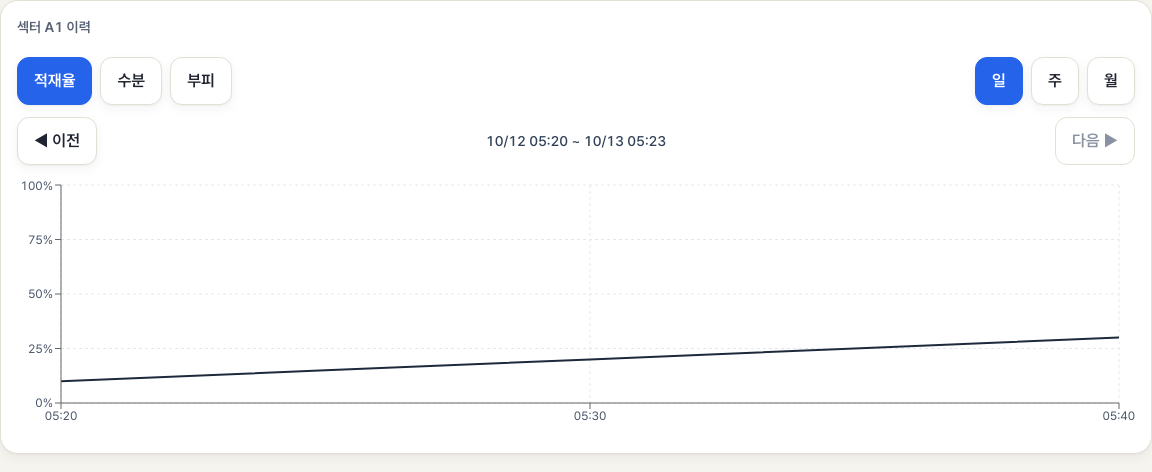
Test case: HistoryPanel: 구간 › 받아 둔 과거 구간은 다시 돌아와도 재요청하지 않지만, 최근 구간은 항상 다시 요청한다
This screenshot has width=1152, height=472.
Expected: the picture is shown, [17, 177, 1135, 437]
Click the button with aria-label "이전 구간" at (57, 141), box [17, 117, 97, 165]
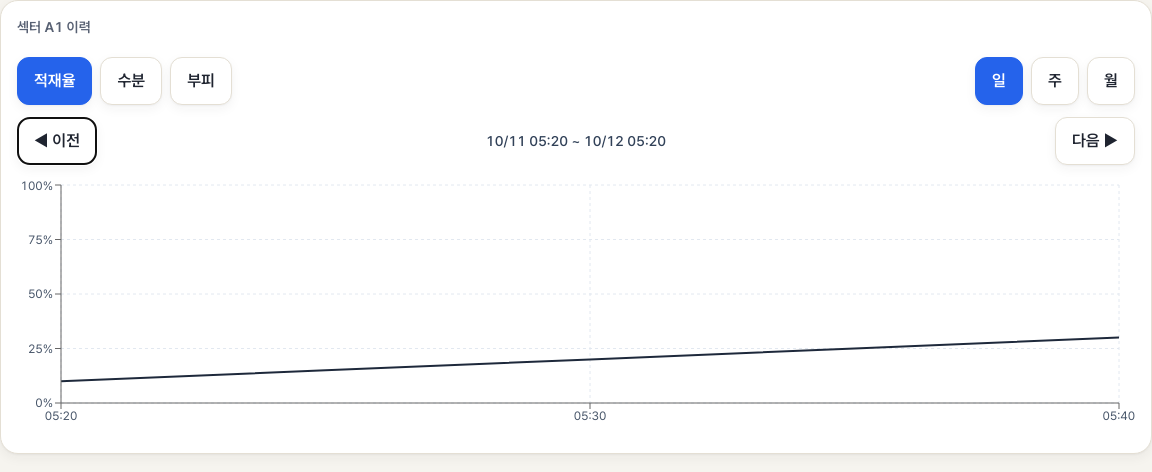
Click the button with aria-label "이전 구간" at (57, 141), box [17, 117, 97, 165]
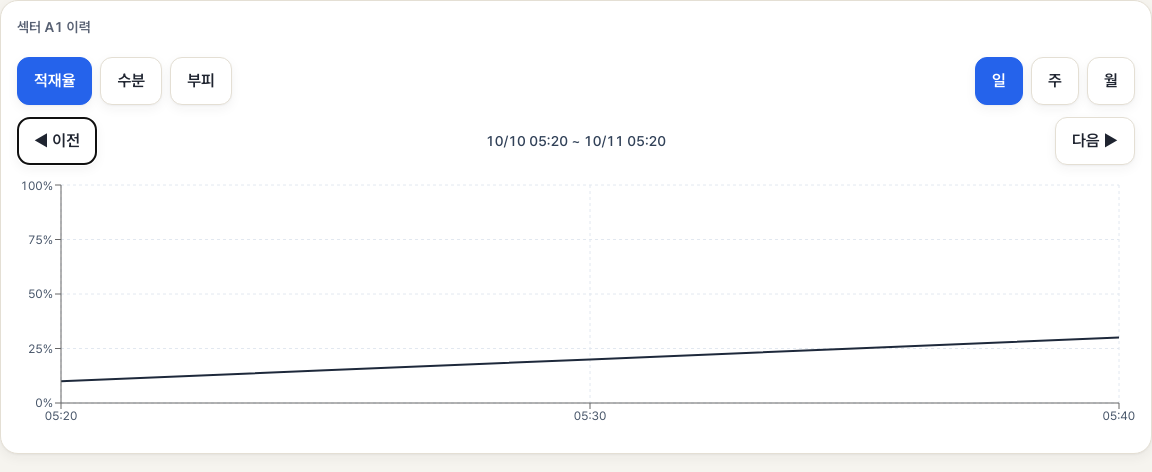
Click the button with aria-label "다음 구간" at (1095, 141), box [1055, 117, 1135, 165]
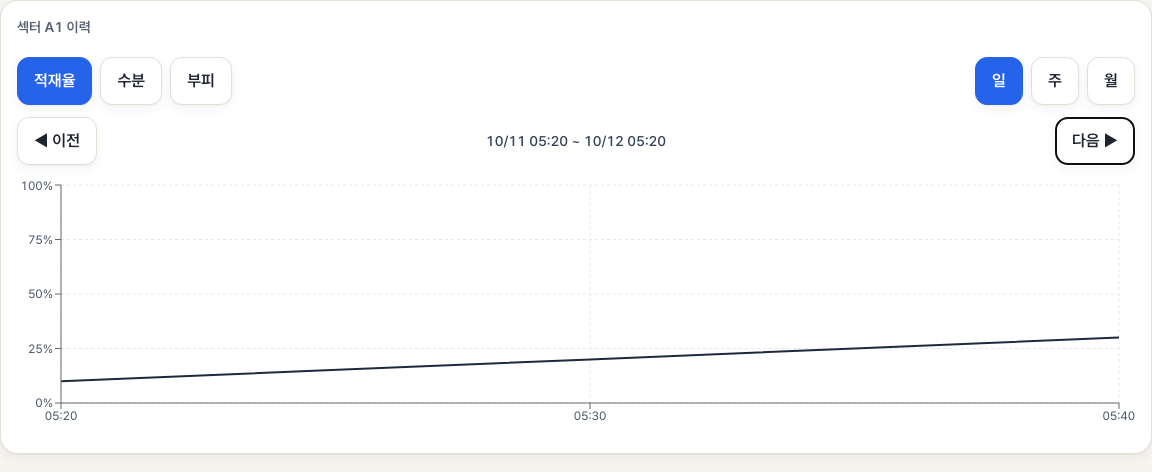
Expected: the picture is shown, [17, 177, 1135, 437]
Click the button with aria-label "다음 구간" at (1095, 141), box [1055, 117, 1135, 165]
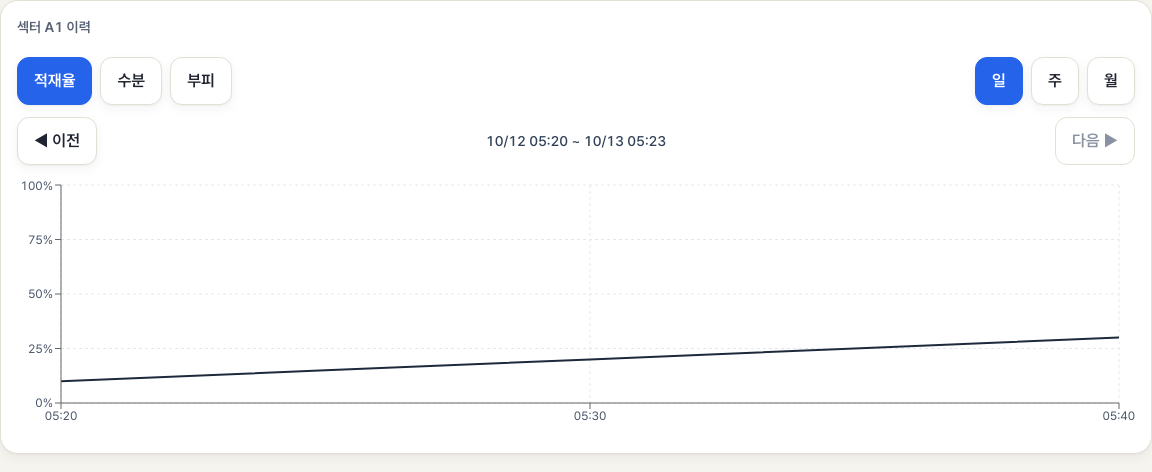
Result: the button with aria-label "다음 구간" is disabled at [1055, 117, 1135, 165]
